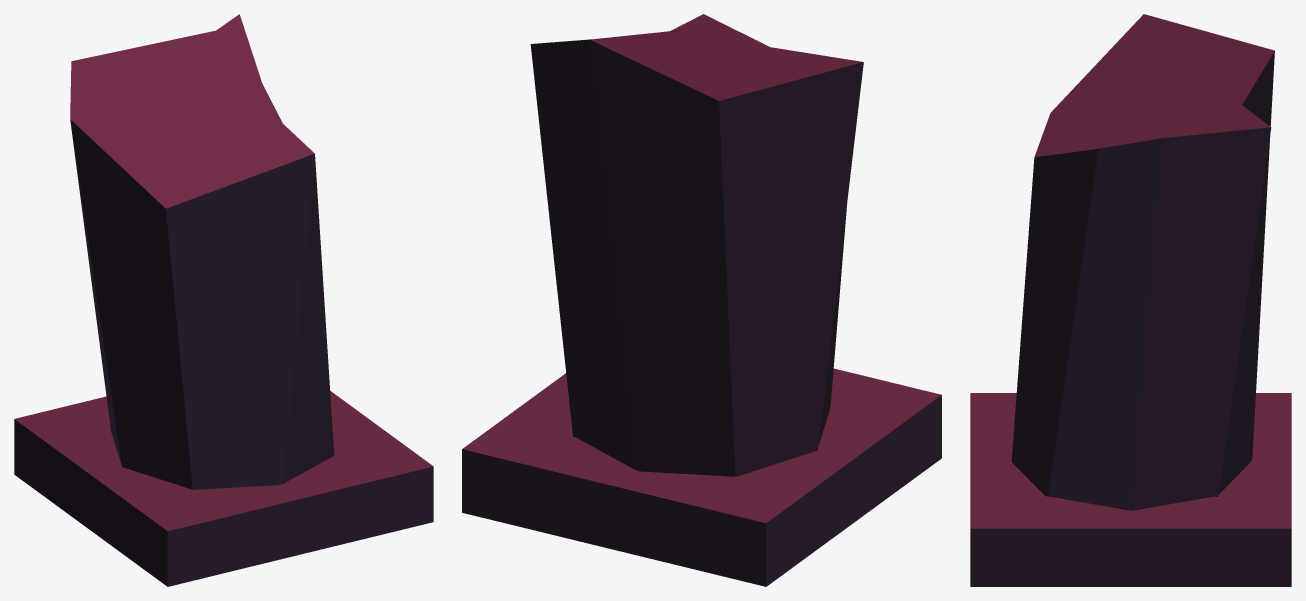
Rendered from stump.glb.
3 renders of one model, left to right at view 1: azimuth 30°, elevation 25°; view 2: azimuth 150°, elevation 25°; view 3: azimuth 270°, elevation 25°, orthographic. The views are drawn at different scales.
Visible parts, largest first — view 1: Stump; view 2: Stump; view 3: Stump.
Part boxes in pixels (<box>): Stump: <box>14,14,433,586</box>; Stump: <box>462,14,941,586</box>; Stump: <box>970,14,1291,586</box>.
Bounding box in the file's own units: 0.8443 × 1.2 × 0.8.
